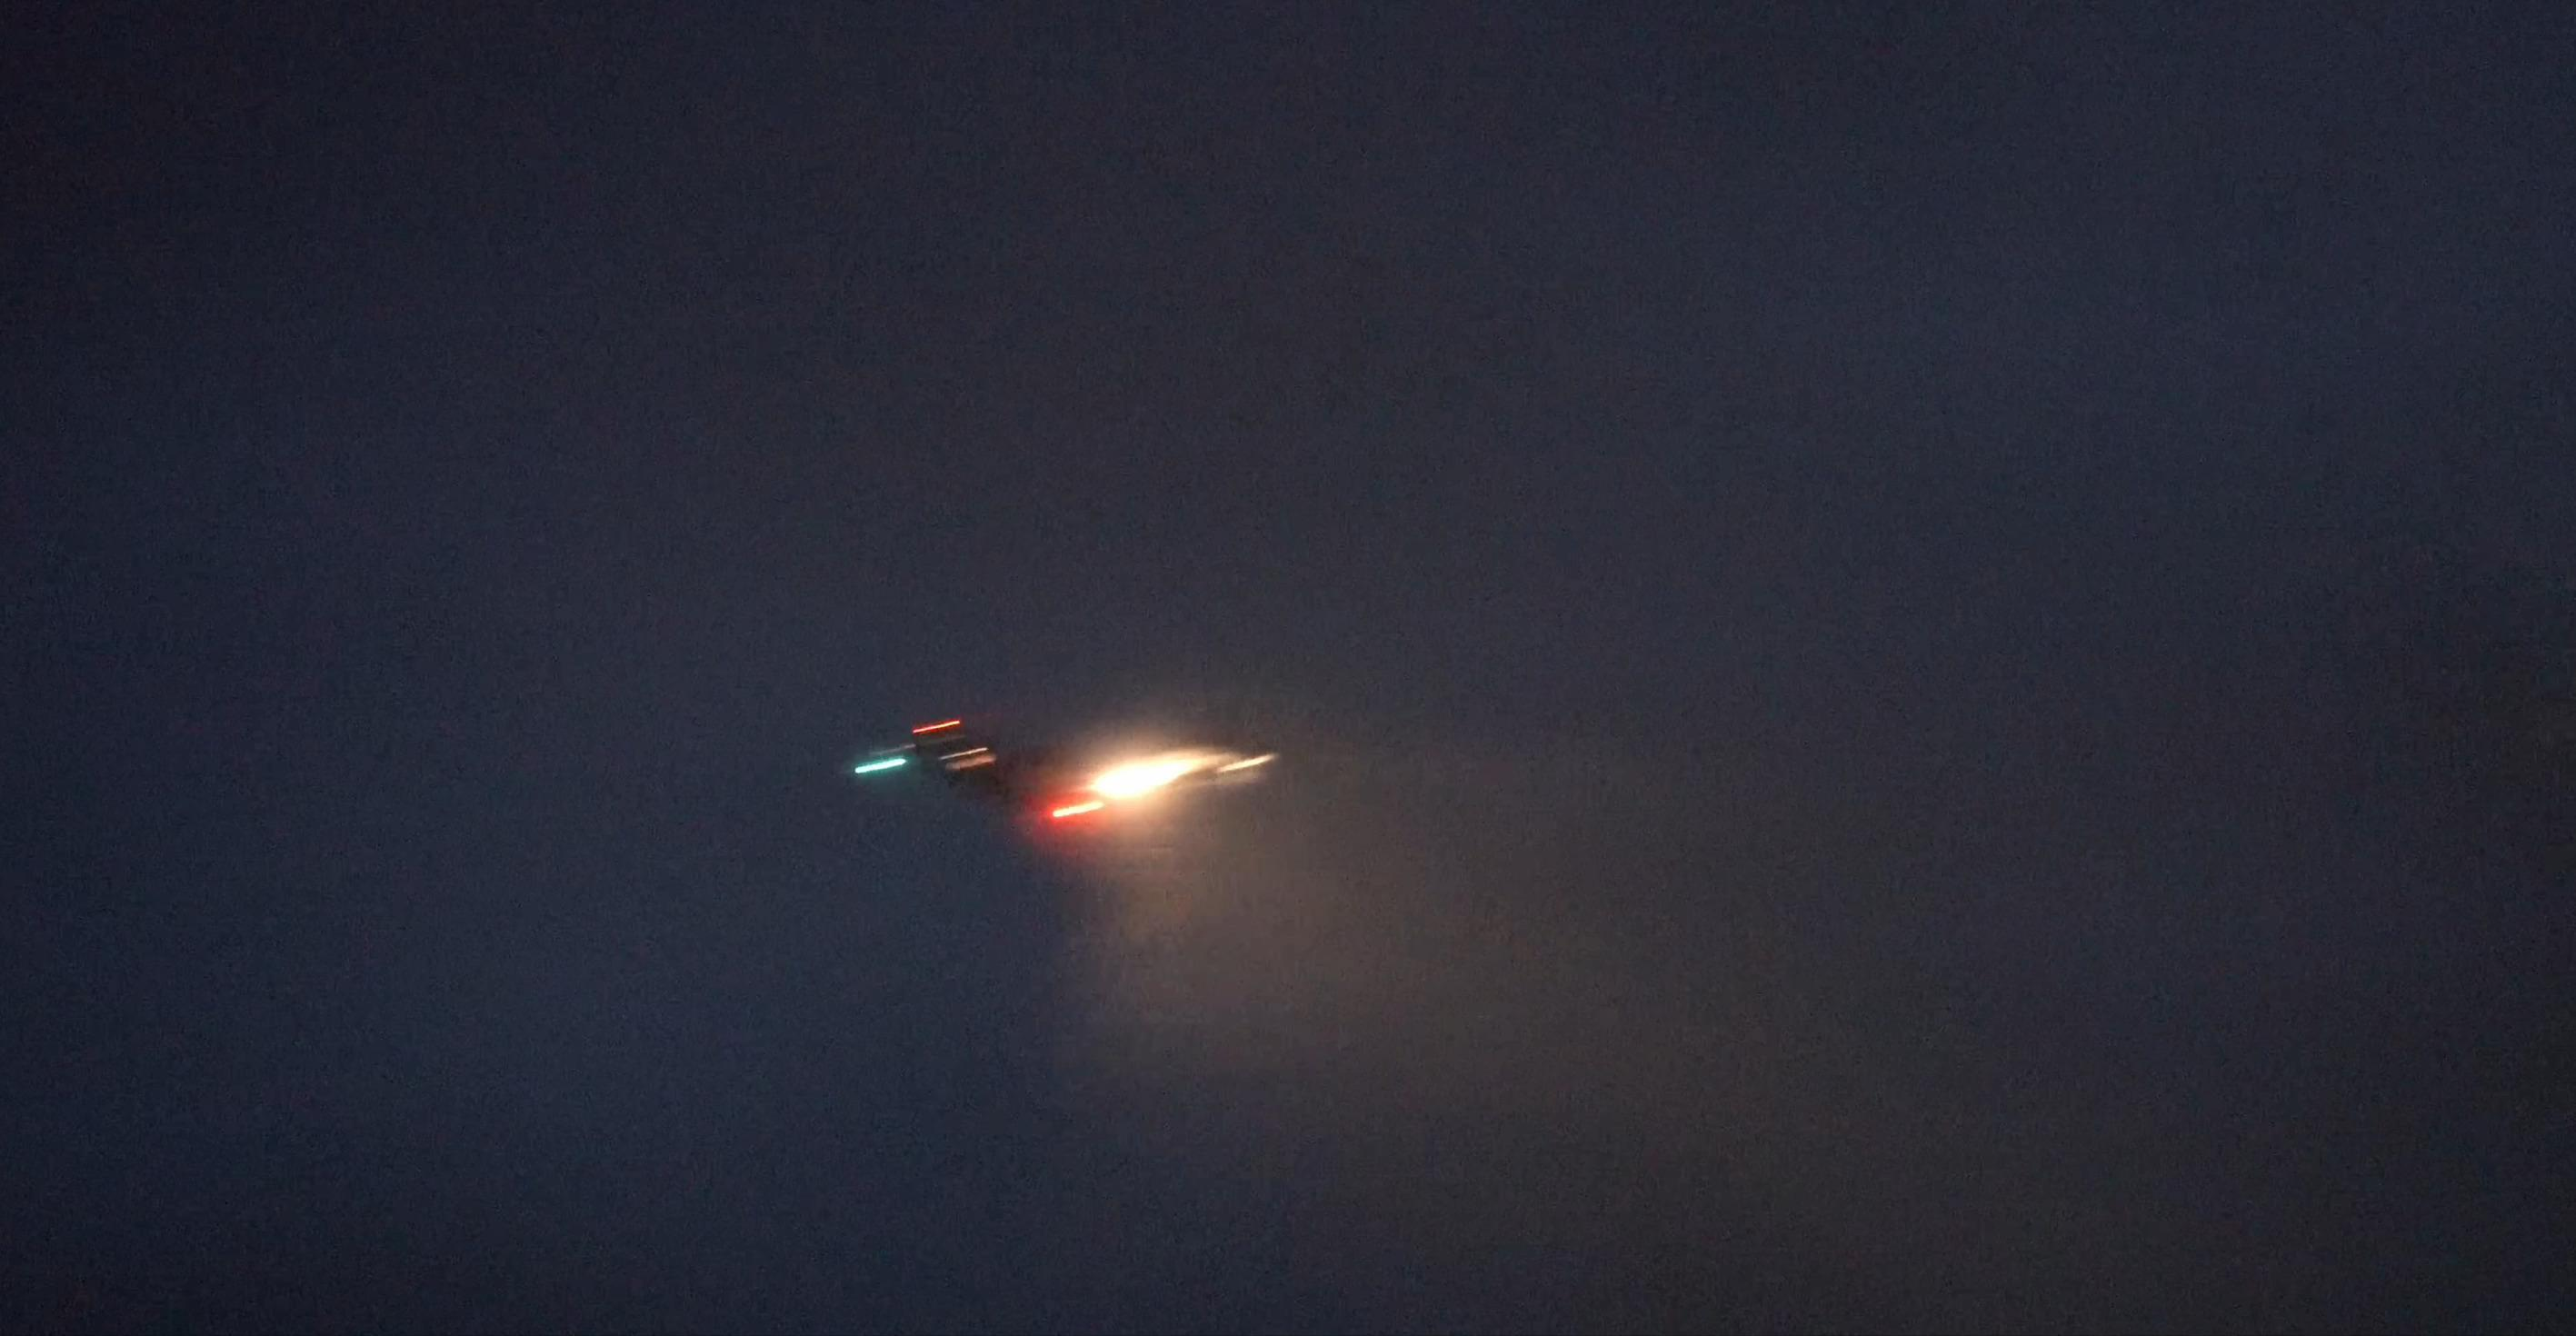Plane: (825, 716, 1360, 896)
